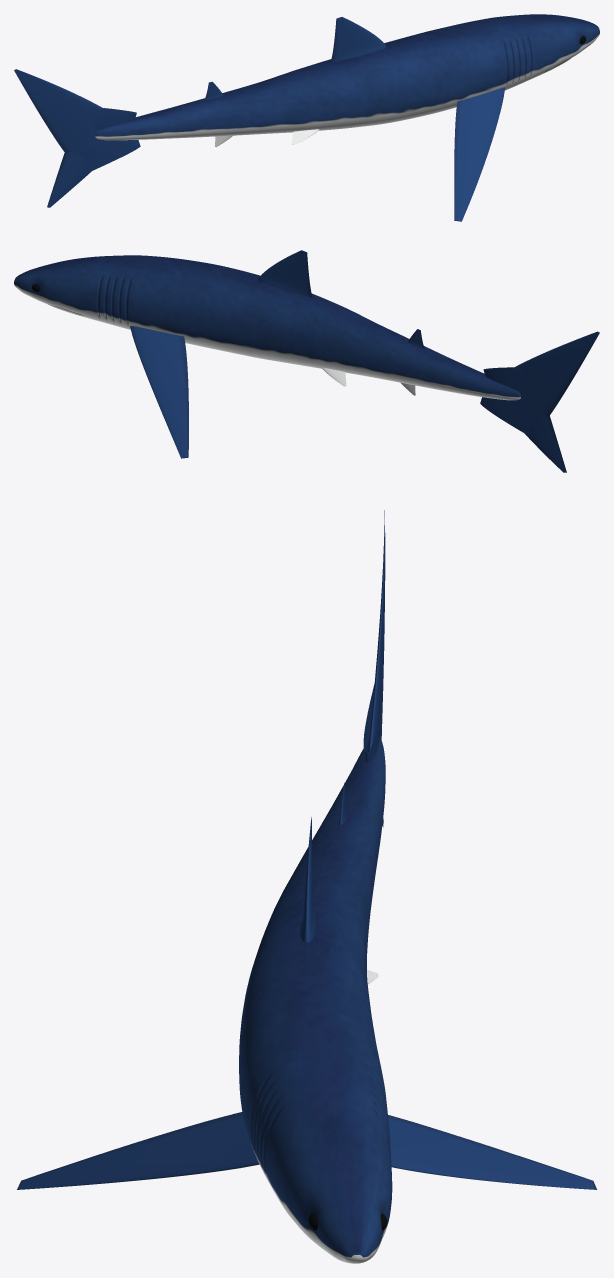
The model's file is blue_shark.glb.
3 views of the same model, one above another, from view 1: azimuth 30°, elevation 25°; view 2: azimuth 150°, elevation 25°; view 3: azimuth 270°, elevation 25° (orthographic). The views are drawn at different scales.
Visible parts, largest first — view 1: BlueShark_Body, BlueShark_Fins; view 2: BlueShark_Body, BlueShark_Fins; view 3: BlueShark_Body, BlueShark_Fins.
Boxes of the visible parts, x1,y1,x2,y2 form: BlueShark_Body: [95, 14, 599, 140]; BlueShark_Fins: [14, 17, 504, 221]; BlueShark_Body: [14, 255, 520, 400]; BlueShark_Fins: [130, 250, 599, 472]; BlueShark_Body: [239, 737, 392, 1263]; BlueShark_Fins: [17, 510, 596, 1189].
Bounding box in the file's own units: 3 × 0.85 × 1.3.
Materials: 3 (1 with a texture image).
